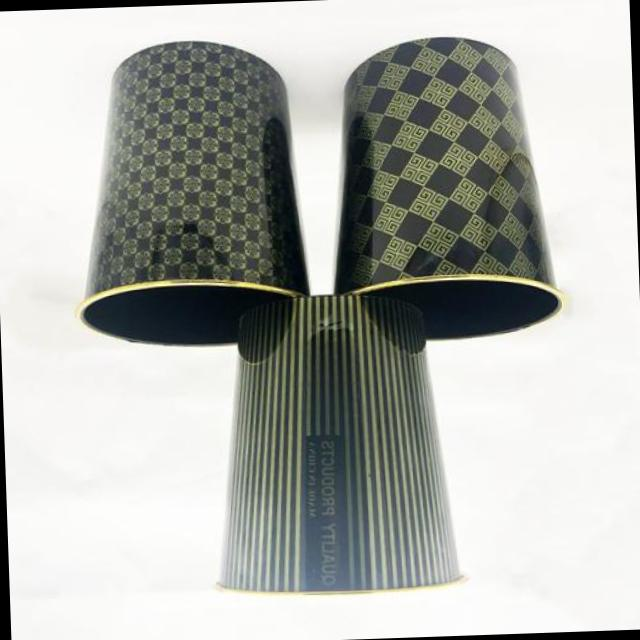dustbin: (191, 285, 468, 602), (318, 25, 581, 355), (71, 32, 312, 357)
